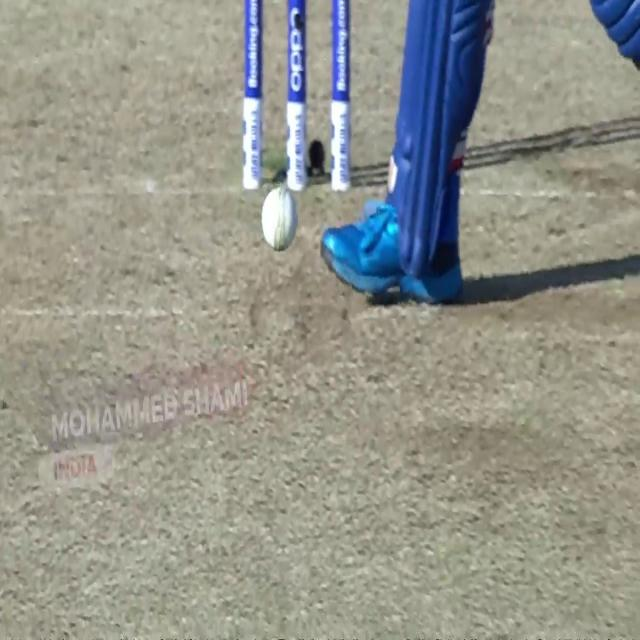ball: (260, 189, 298, 251)
